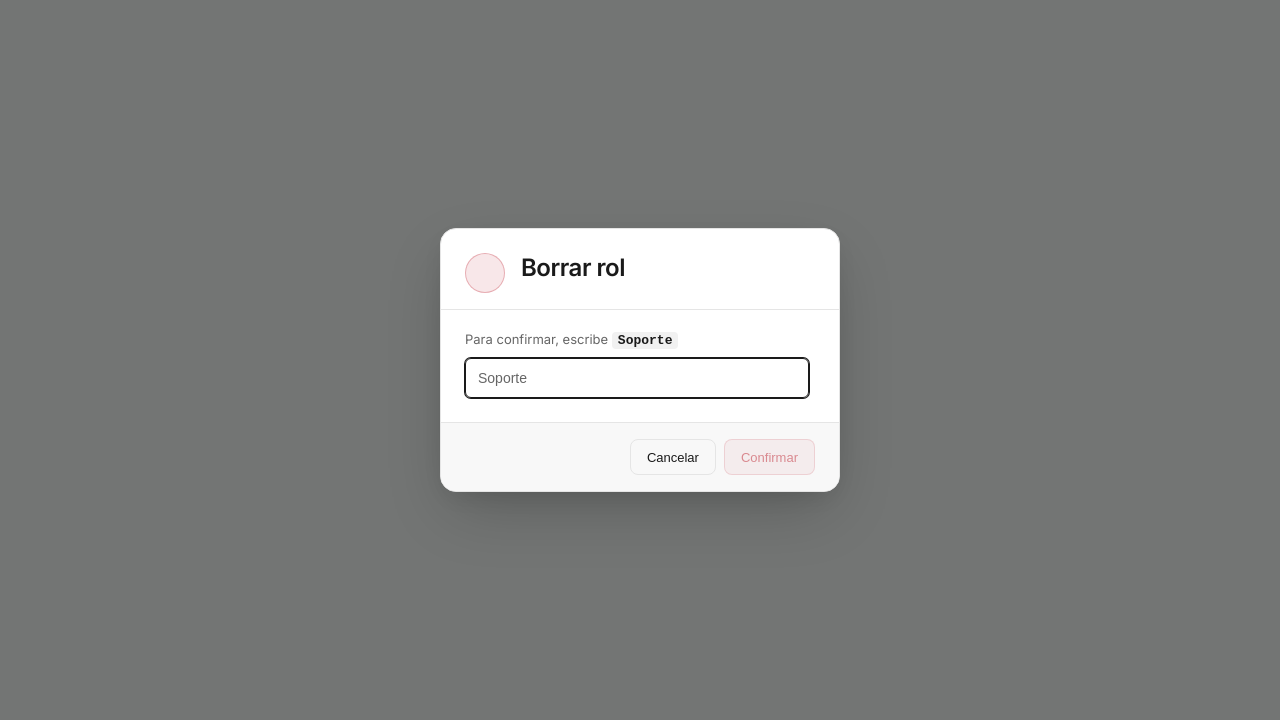
UiConfirmDialog › ignora espacios al comparar pero exige coincidencia exacta
Type "  Soporte  " into the field with placeholder "Soporte" at (637, 378), box [465,358,809,398]
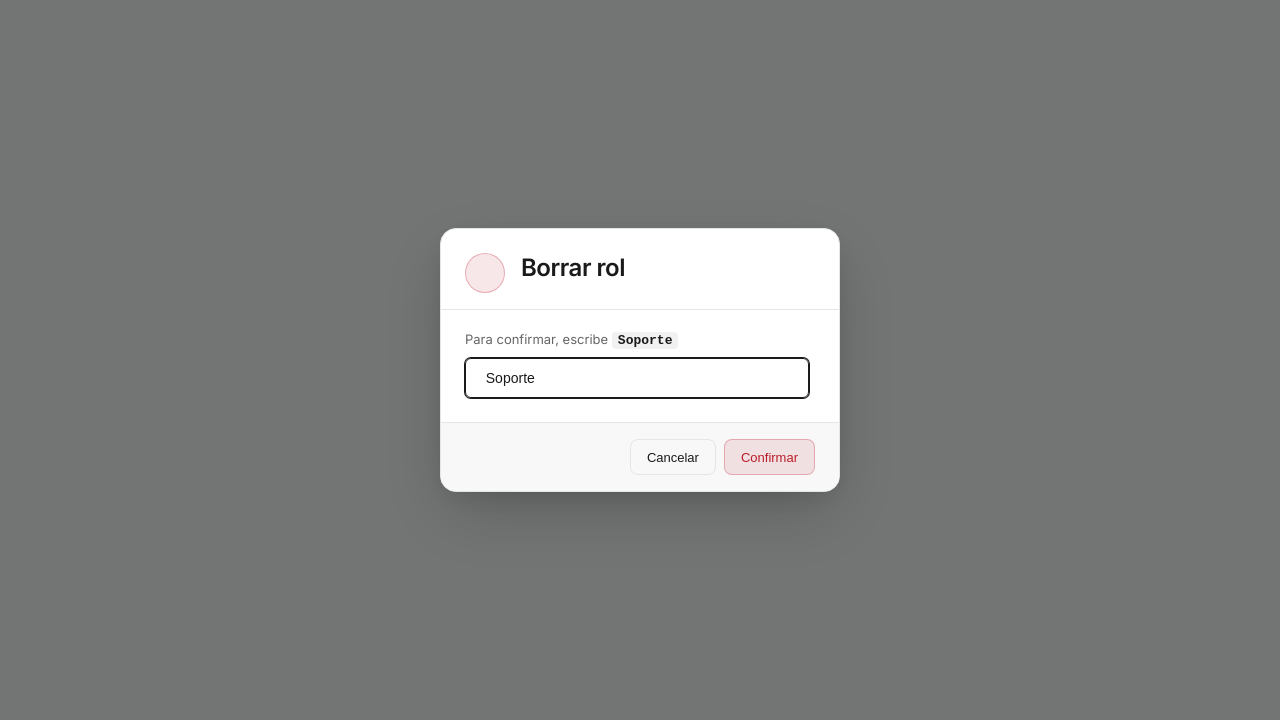
Now the button "Confirmar" is enabled, box [724,439,815,475]
Type "soporte" into the field named "Escribe Soporte para confirmar" at (637, 378), box [465,358,809,398]
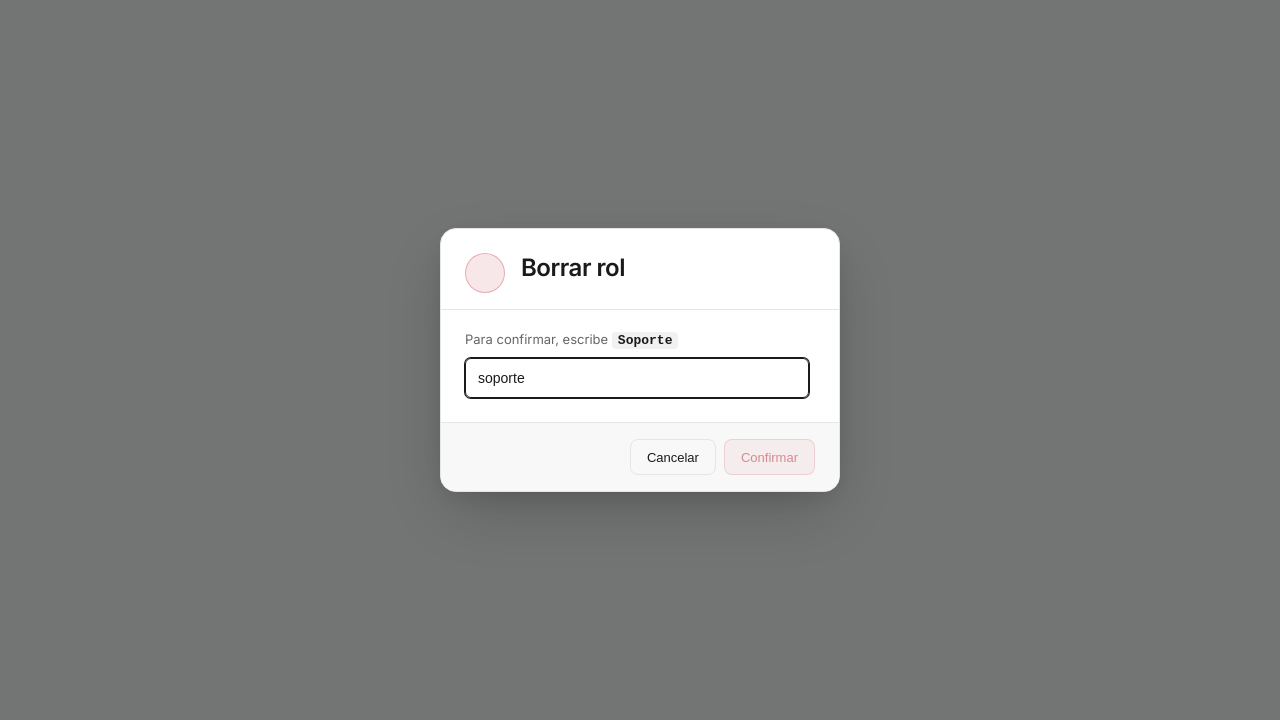
Now the button "Confirmar" is disabled, box [724,439,815,475]
